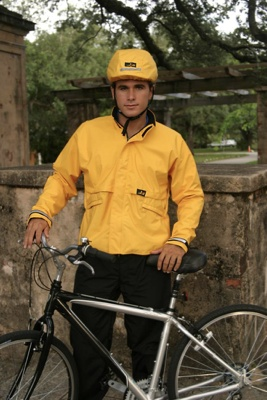helmet: (104, 46, 161, 119)
